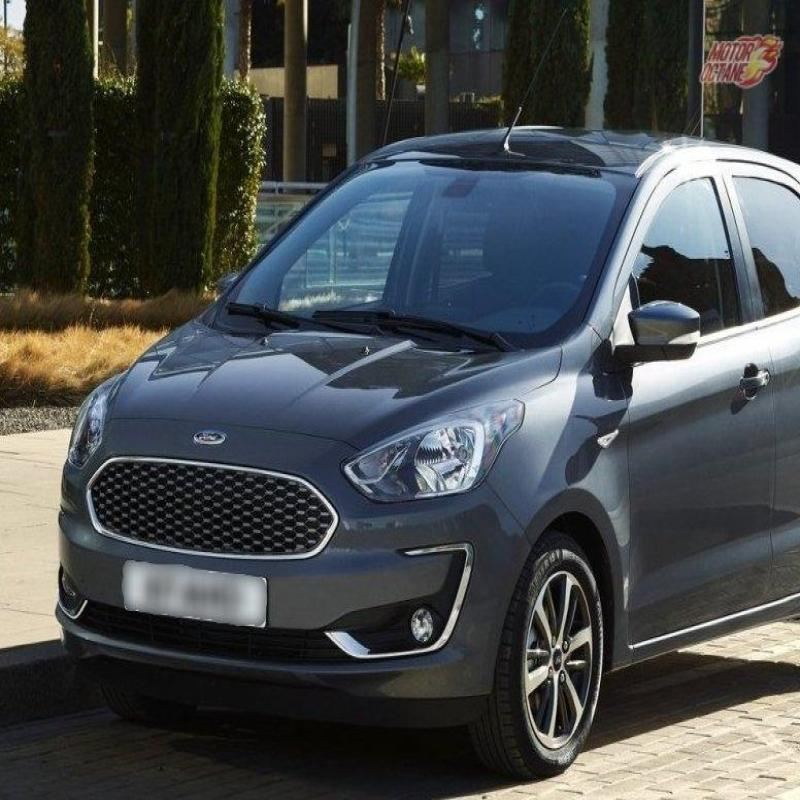car: (36, 98, 800, 800)
